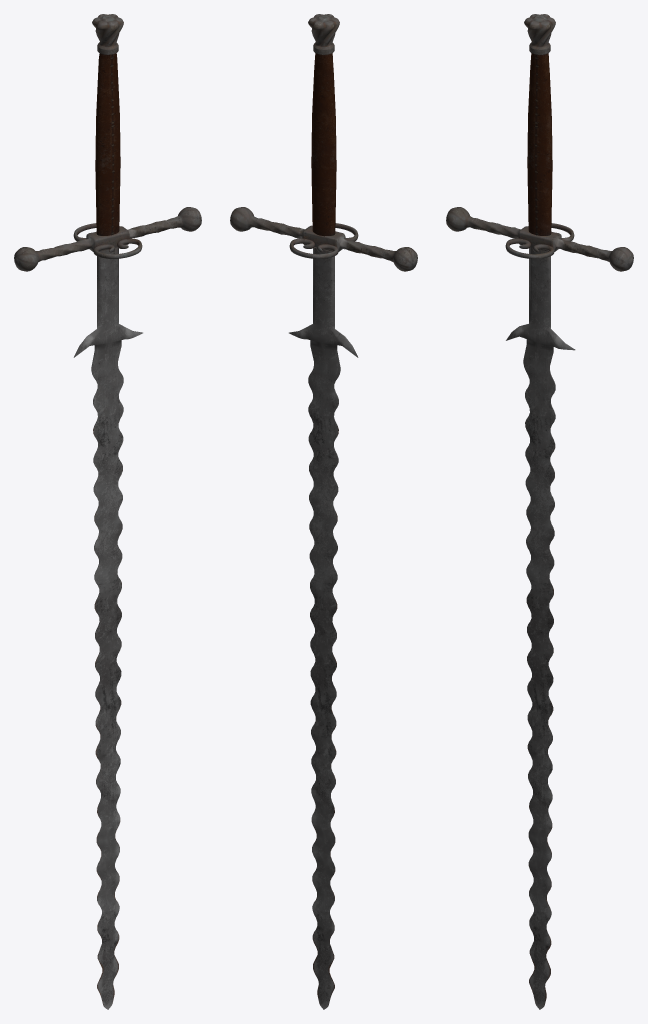
File: SM_Flamberge.fbx
3 renders of one model, left to right at view 1: azimuth 30°, elevation 25°; view 2: azimuth 150°, elevation 25°; view 3: azimuth 330°, elevation 25°, orthographic.
Parts seen in each view (by area): view 1: SM_Flamberg; view 2: SM_Flamberg; view 3: SM_Flamberg.
Part boxes in pixels (x1=…): SM_Flamberg: x1=14, y1=14, x2=201, y2=1009; SM_Flamberg: x1=230, y1=14, x2=417, y2=1009; SM_Flamberg: x1=446, y1=14, x2=633, y2=1009.
Size of the model in its own units: 37.05 by 190 by 13.98.
1 material, 1 textured.
